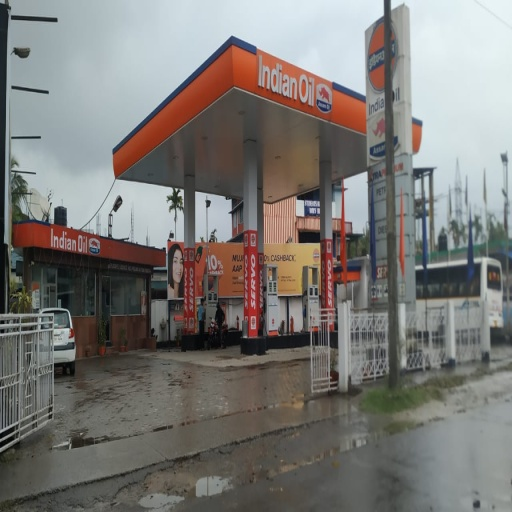roof: (113, 34, 420, 209)
